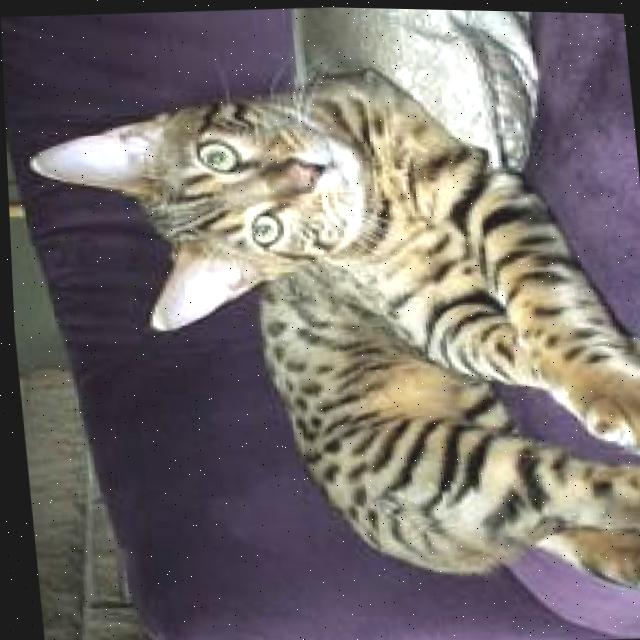Bengal: (6, 42, 640, 633)
